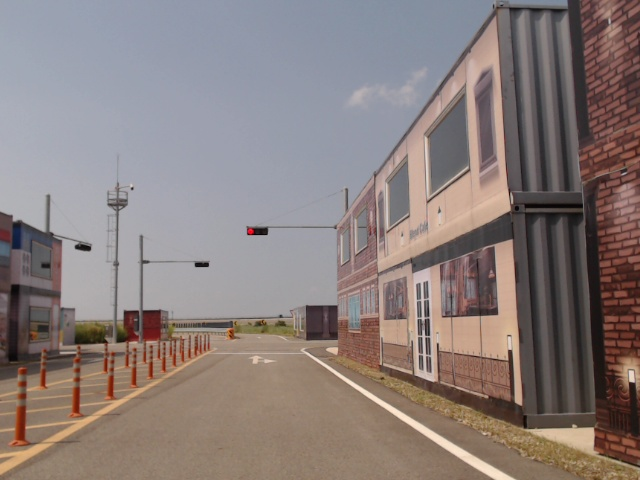red_3: (248, 227, 268, 235)
